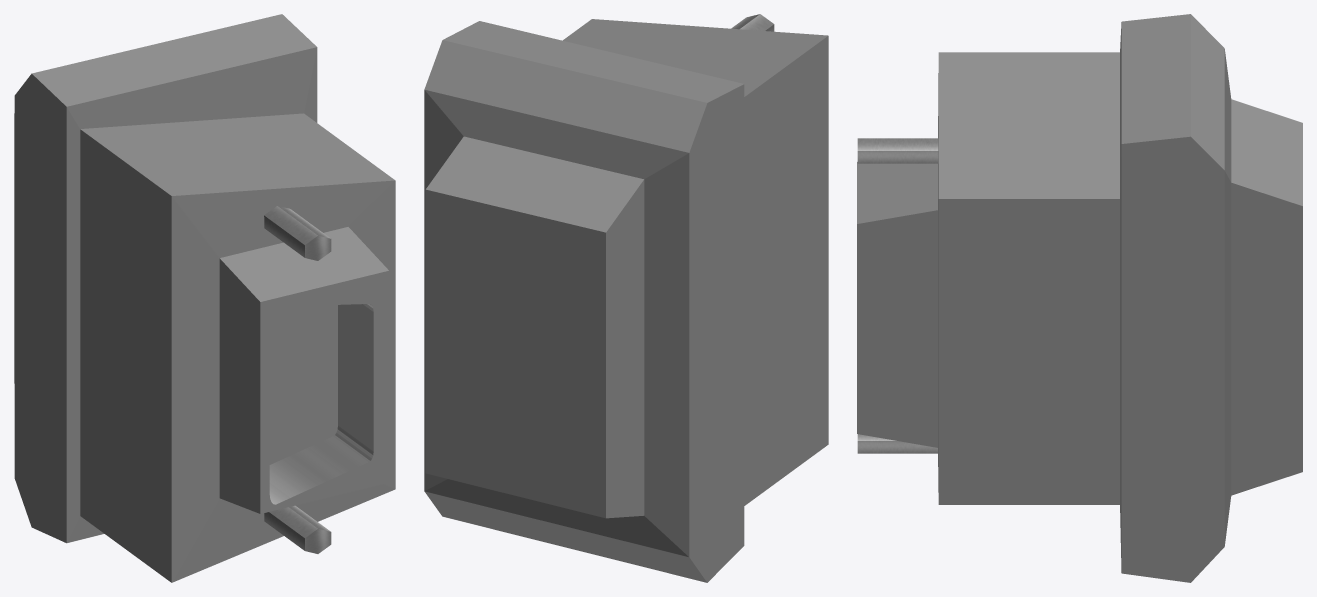
Rendered from питание хз.fbx.
The picture shows the model from 3 angles, left to right: view 1: azimuth 30°, elevation 25°; view 2: azimuth 150°, elevation 25°; view 3: azimuth 270°, elevation 25°; orthographic projection. The views are drawn at different scales.
Parts seen in each view (by area): view 1: Цилиндр.039; view 2: Цилиндр.039; view 3: Цилиндр.039.
Part boxes in pixels (left/top/right/bottom): Цилиндр.039: left=14, top=14, right=395, bottom=582; Цилиндр.039: left=424, top=14, right=828, bottom=582; Цилиндр.039: left=857, top=14, right=1302, bottom=582.
Size of the model in its own units: 23.71 by 41.04 by 36.88.
